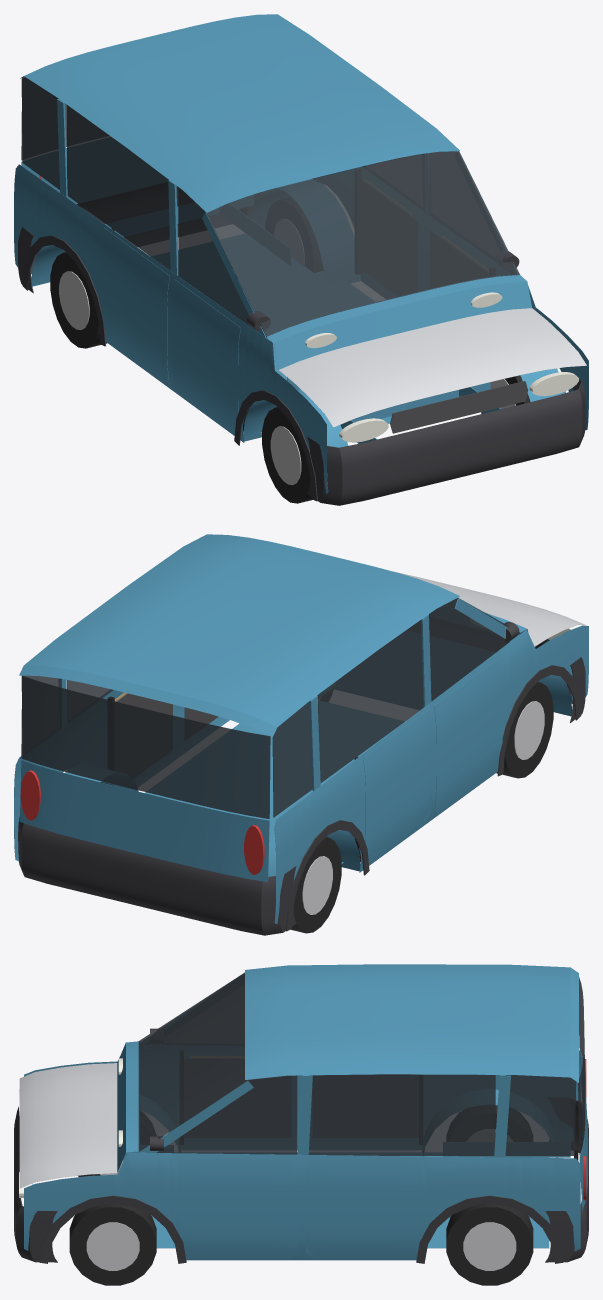
The model's file is capot-alu.glb.
The picture shows the model from 3 angles, top to bottom: view 1: azimuth 30°, elevation 25°; view 2: azimuth 150°, elevation 25°; view 3: azimuth 270°, elevation 25°; orthographic projection. The views are drawn at different scales.
Parts seen in each view (by area): view 1: CAR-PANEL-ROOF 1, Pare-brise 1, CAR-HOOD-SHELL 1, CAR-BUMPER-SKIN-FRONT 1, CAR-PANEL-SIDE 2, Vitre arrière 2, CAR-COWL 1, CAR-DOOR-SHELL-REAR 2, CAR-DOOR-SHELL-FRONT 2, Vitre avant 2, CAR-GLASS-QUARTER 2, CAR-GRILLE 1 (+19 smaller); view 2: CAR-PANEL-ROOF 1, CAR-GLASS-TAILGATE 1, CAR-BUMPER-SKIN-REAR 1, CAR-TAILGATE-SHELL 1, CAR-PANEL-SIDE 2, Vitre arrière 2, CAR-DOOR-SHELL-FRONT 2, CAR-DOOR-SHELL-REAR 2, Vitre avant 2, CAR-GLASS-QUARTER 2, CAR-PANEL-FLOOR 1, CAR-HOOD-SHELL 1 (+17 smaller); view 3: CAR-PANEL-ROOF 1, CAR-PANEL-SIDE 1, Vitre arrière 1, Pare-brise 1, CAR-DOOR-SHELL-FRONT 1, CAR-DOOR-SHELL-REAR 1, CAR-HOOD-SHELL 1, Vitre avant 1, CAR-GLASS-QUARTER 1, Pneu 1, Pneu 3, CAR-COWL 1 (+16 smaller).
Boxes of the visible parts, box(x1,y1,x2,y2) form: CAR-PANEL-ROOF 1: box(20, 14, 459, 212); Pare-brise 1: box(205, 151, 519, 336); CAR-HOOD-SHELL 1: box(279, 308, 586, 427); CAR-BUMPER-SKIN-FRONT 1: box(307, 379, 585, 505); CAR-PANEL-SIDE 2: box(14, 164, 328, 493); Vitre arrière 2: box(67, 105, 170, 270); CAR-COWL 1: box(266, 275, 531, 369); CAR-DOOR-SHELL-REAR 2: box(101, 228, 169, 385); CAR-DOOR-SHELL-FRONT 2: box(171, 279, 240, 434); Vitre avant 2: box(178, 187, 256, 330); CAR-GLASS-QUARTER 2: box(21, 76, 59, 189); CAR-GRILLE 1: box(390, 381, 528, 433); CAR-PANEL-ROOF 1: box(19, 534, 459, 737); CAR-GLASS-TAILGATE 1: box(21, 675, 270, 818); CAR-BUMPER-SKIN-REAR 1: box(18, 816, 296, 935); CAR-TAILGATE-SHELL 1: box(19, 760, 269, 882); CAR-PANEL-SIDE 2: box(274, 625, 588, 924); Vitre arrière 2: box(318, 620, 423, 782); CAR-DOOR-SHELL-FRONT 2: box(434, 657, 502, 815); CAR-DOOR-SHELL-REAR 2: box(363, 709, 431, 864); Vitre avant 2: box(429, 598, 509, 701); CAR-GLASS-QUARTER 2: box(272, 700, 312, 817); CAR-PANEL-FLOOR 1: box(145, 700, 404, 863); CAR-HOOD-SHELL 1: box(395, 572, 586, 646); CAR-PANEL-ROOF 1: box(245, 964, 578, 1082); CAR-PANEL-SIDE 1: box(24, 1152, 580, 1260); Vitre arrière 1: box(308, 1074, 495, 1155); Pare-brise 1: box(138, 972, 247, 1151); CAR-DOOR-SHELL-FRONT 1: box(179, 1159, 297, 1258); CAR-DOOR-SHELL-REAR 1: box(305, 1159, 423, 1258); CAR-HOOD-SHELL 1: box(19, 1063, 117, 1188); Vitre avant 1: box(156, 1075, 297, 1154); CAR-GLASS-QUARTER 1: box(505, 1075, 576, 1155); Pneu 1: box(69, 1204, 156, 1285); Pneu 3: box(446, 1204, 533, 1285); CAR-COWL 1: box(117, 1041, 139, 1172).
Size of the model in its own units: 1.92 by 1.73 by 4.06.
